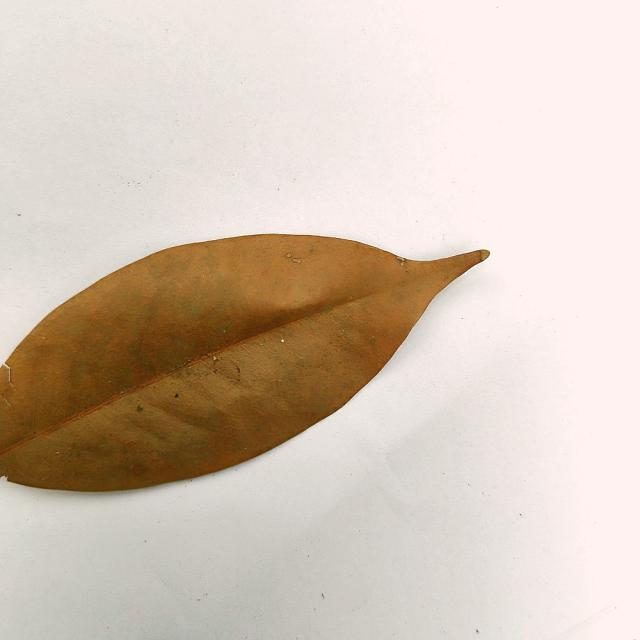Dry_Leaf-Lychee: (0, 234, 490, 496)
